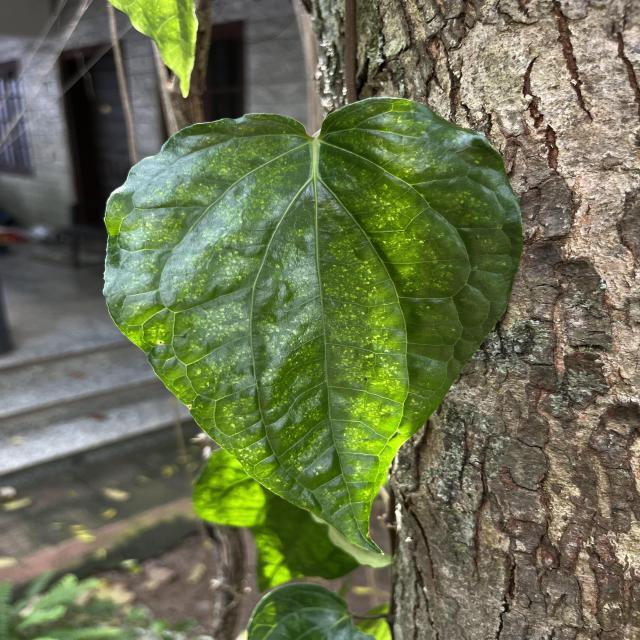Piper betle: (100, 94, 526, 558)
